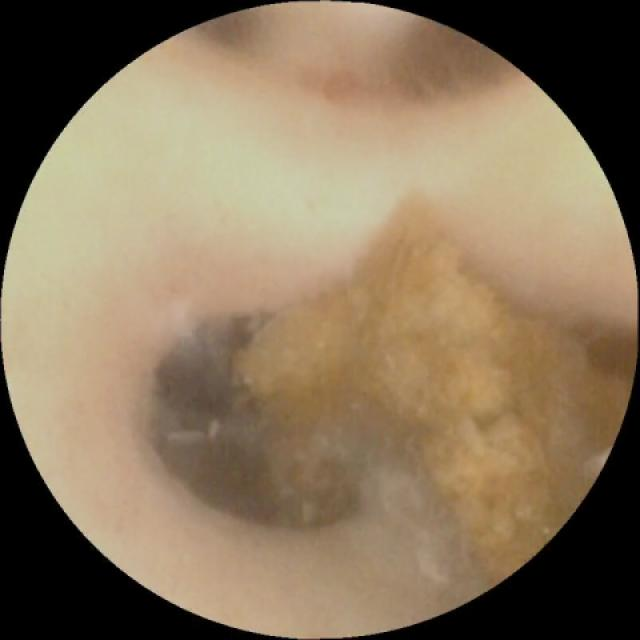stone: (232, 194, 625, 576)
